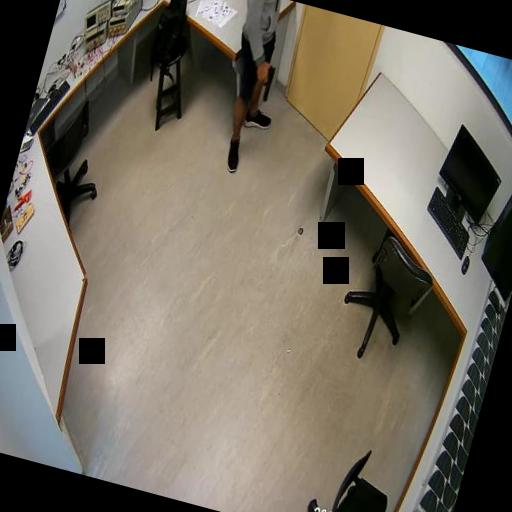Handgun: (253, 61, 275, 101)
